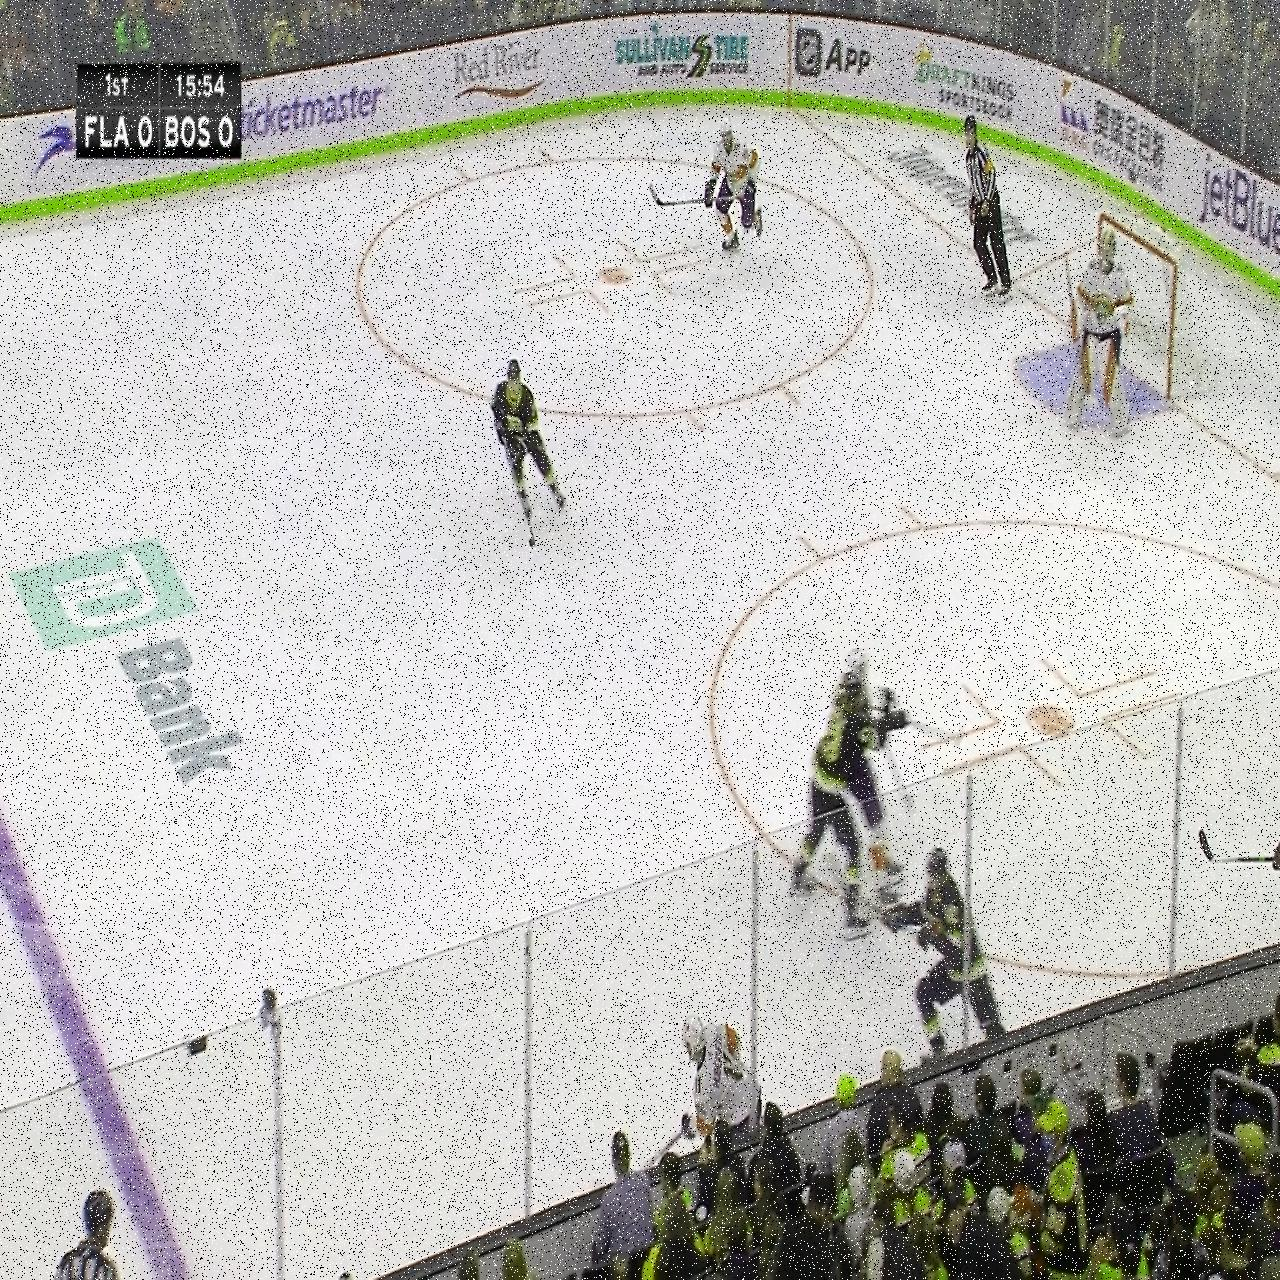Ad: (11, 537, 256, 828), (877, 142, 1051, 234), (1057, 69, 1173, 202), (908, 21, 1016, 130), (611, 13, 754, 93), (239, 84, 399, 144), (1207, 139, 1280, 264), (448, 30, 553, 111), (792, 9, 872, 100)
